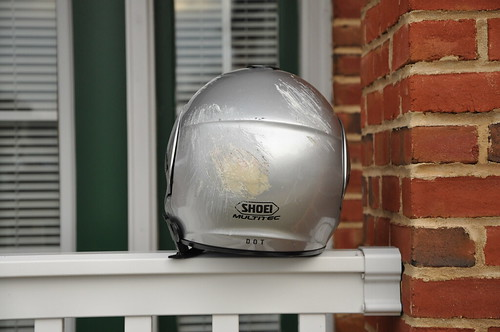helmet: (161, 77, 348, 253)
